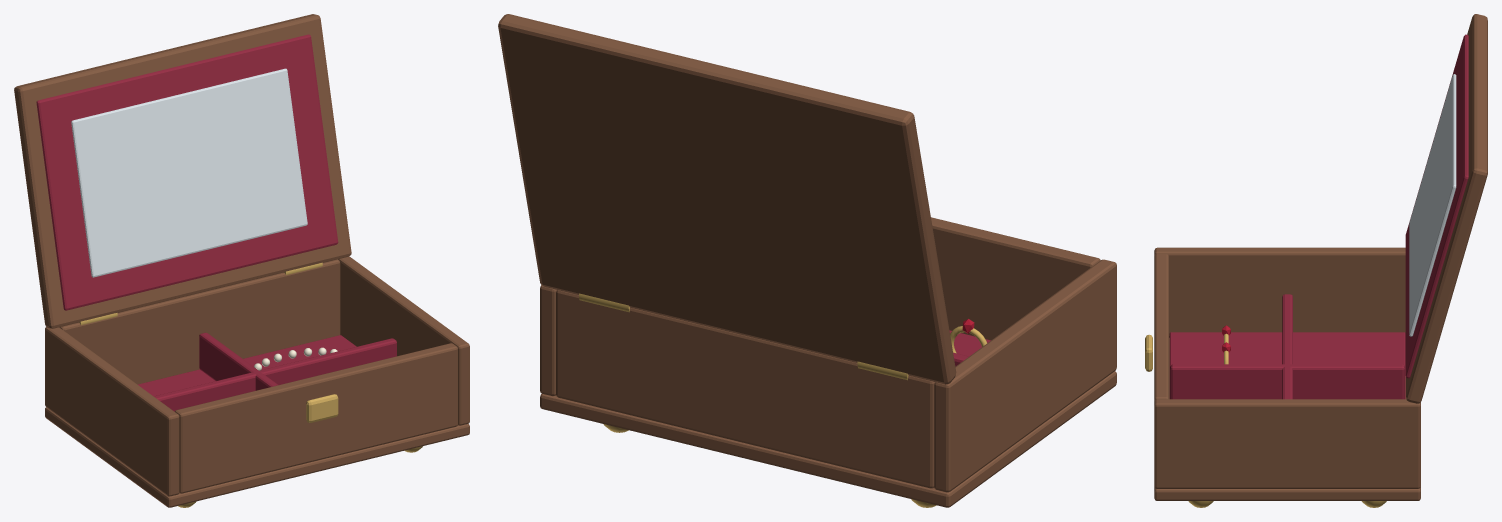
File: jewelry_box.glb
3 renders of one model, left to right at view 1: azimuth 30°, elevation 25°; view 2: azimuth 150°, elevation 25°; view 3: azimuth 270°, elevation 25°, orthographic. The views are drawn at different scales.
Visible parts, largest first — view 1: Inset lid mirror, Jewelry box inner lid panel, Jewelry box end wall, Jewelry box open lid, Jewelry box end wall.001, Jewelry box side wall, Jewelry box side wall.001, Jewelry box solid bottom, Velvet tray cross divider, Jewelry box interior lining, Velvet tray central divider, Small brass front clasp; view 2: Jewelry box open lid, Jewelry box end wall.001, Jewelry box side wall, Jewelry box end wall, Jewelry box solid bottom, Jewelry box side wall.001; view 3: Jewelry box side wall.001, Jewelry box side wall, Velvet tray central divider, Jewelry box open lid, Jewelry box interior lining, Inset lid mirror, Jewelry box inner lid panel, Jewelry box solid bottom, Jewelry box end wall, Velvet tray cross divider.
Boxes of the visible parts, <box> form: Inset lid mirror: <box>71,68,307,277</box>; Jewelry box inner lid panel: <box>36,34,338,310</box>; Jewelry box end wall: <box>175,343,457,493</box>; Jewelry box open lid: <box>14,14,351,328</box>; Jewelry box end wall.001: <box>59,259,340,384</box>; Jewelry box side wall: <box>45,327,179,496</box>; Jewelry box side wall.001: <box>338,256,469,425</box>; Jewelry box solid bottom: <box>45,407,469,507</box>; Velvet tray cross divider: <box>154,338,396,411</box>; Jewelry box interior lining: <box>138,335,356,396</box>; Velvet tray central divider: <box>199,332,278,390</box>; Small brass front clasp: <box>306,394,338,422</box>; Jewelry box open lid: <box>498,14,956,384</box>; Jewelry box end wall.001: <box>556,290,934,488</box>; Jewelry box side wall: <box>934,259,1116,492</box>; Jewelry box end wall: <box>931,217,1100,340</box>; Jewelry box solid bottom: <box>540,371,1116,507</box>; Jewelry box side wall.001: <box>540,285,556,396</box>; Jewelry box side wall.001: <box>1154,399,1420,488</box>; Jewelry box side wall: <box>1154,247,1405,337</box>; Velvet tray central divider: <box>1170,364,1404,399</box>; Jewelry box open lid: <box>1406,14,1487,403</box>; Jewelry box interior lining: <box>1169,332,1405,399</box>; Inset lid mirror: <box>1409,74,1456,336</box>; Jewelry box inner lid panel: <box>1405,34,1468,378</box>; Jewelry box solid bottom: <box>1154,337,1420,500</box>; Jewelry box end wall: <box>1154,254,1168,401</box>; Velvet tray cross divider: <box>1282,294,1292,399</box>.
Size of the model in its own units: 0.28 by 0.2951 by 0.2573.
